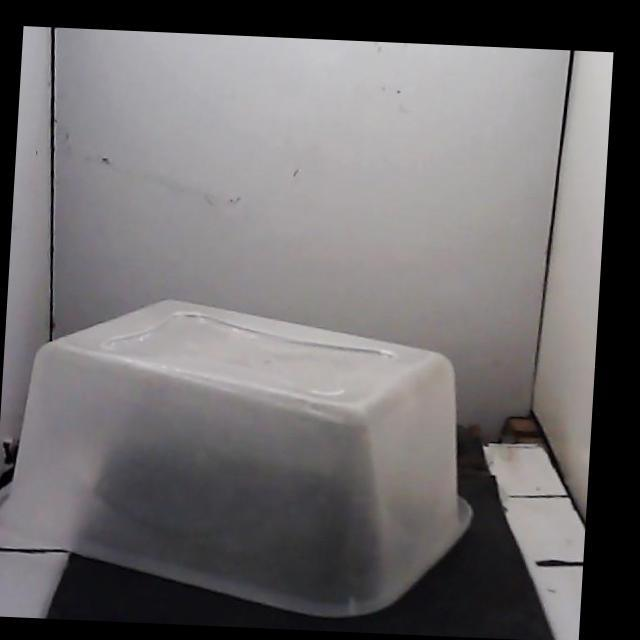plastico: (4, 300, 471, 616)
